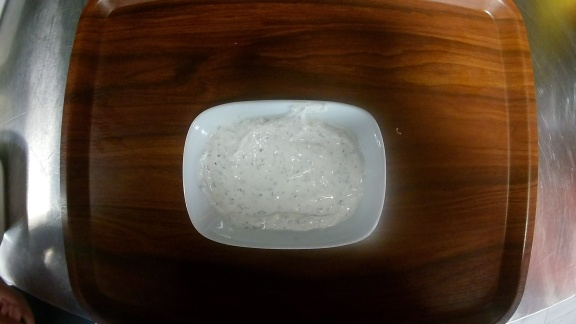haydari: (183, 100, 388, 249)
